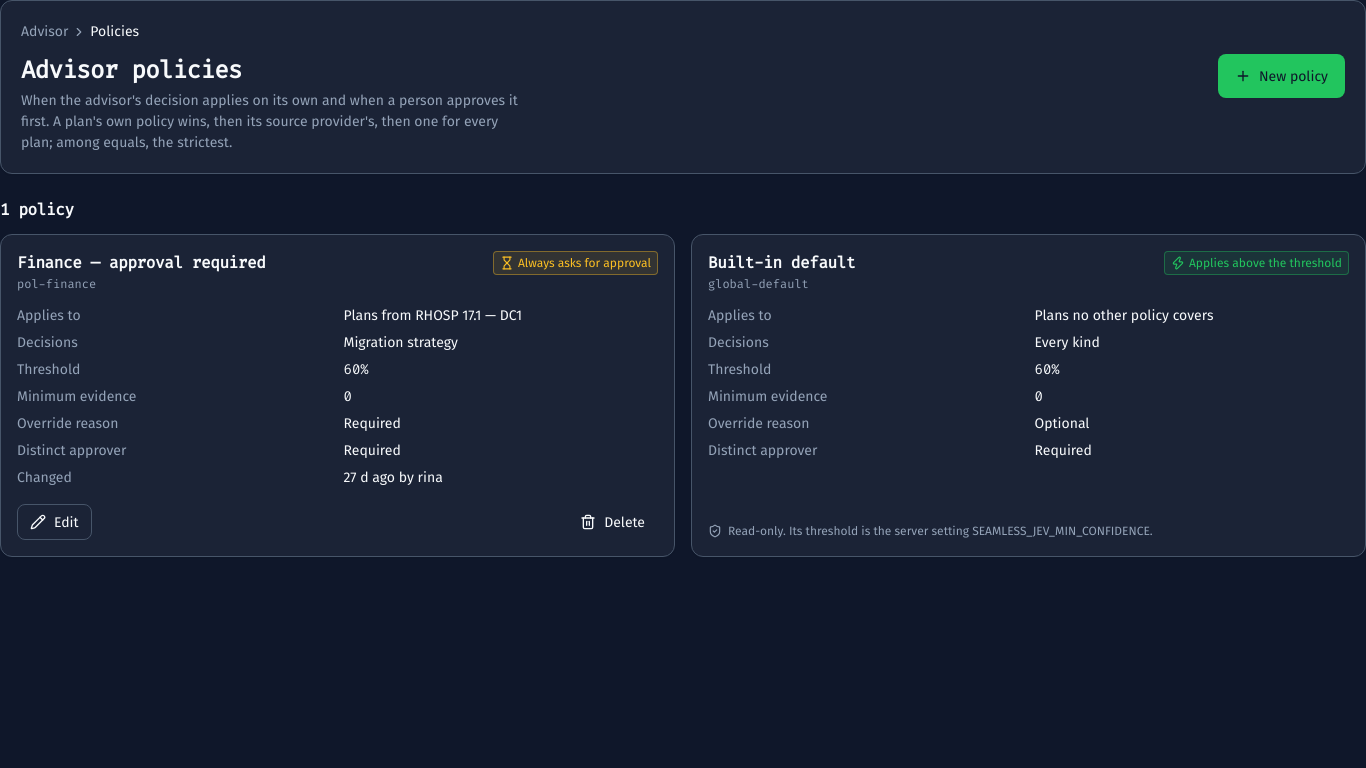
it: Advisor policies page (SDD §14.6, §16, ADV-04) › asks a new policy for three facts of evidence, and says what they are (SDD §14.4, ADV-02)
Click the button "New policy" at [1281, 76], box [1218,54,1345,98]
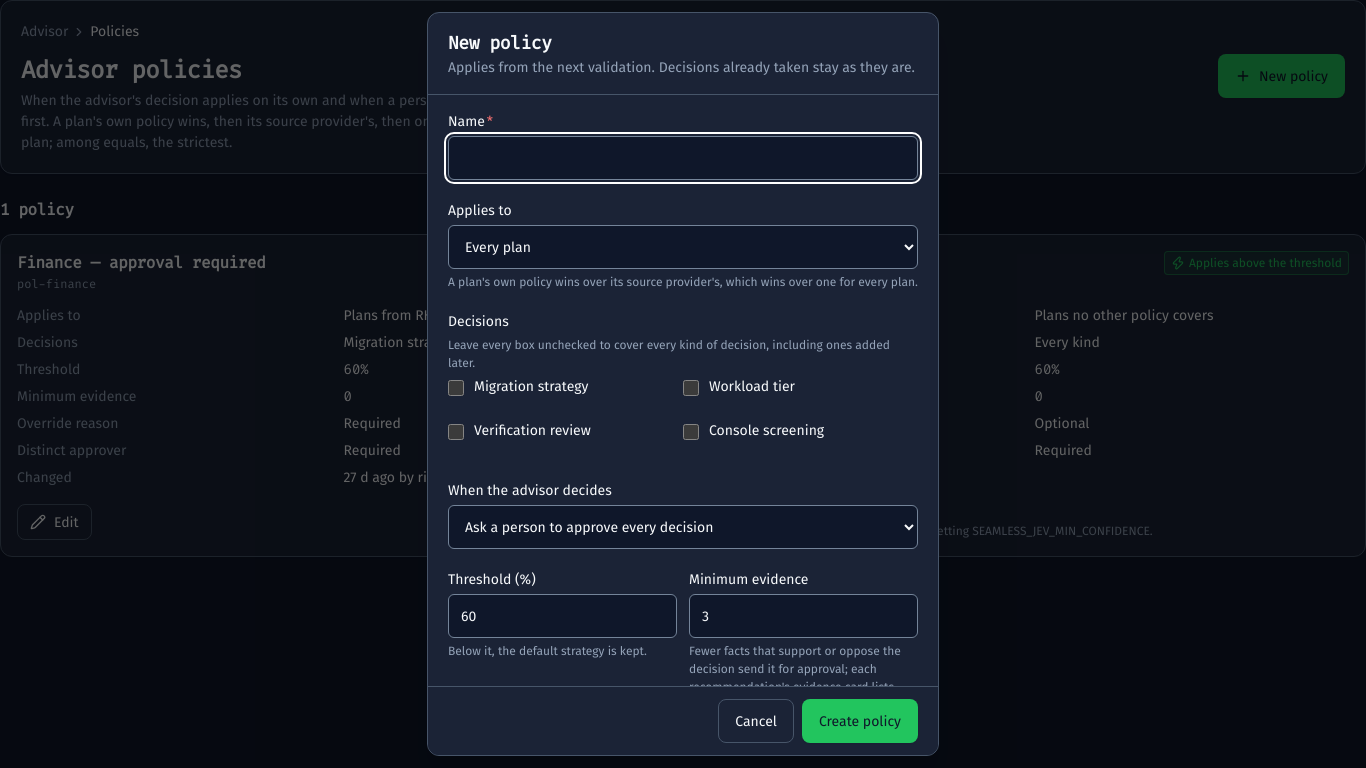
Check: the number field labelled "Minimum evidence" holds "3", box [689,594,918,638]
